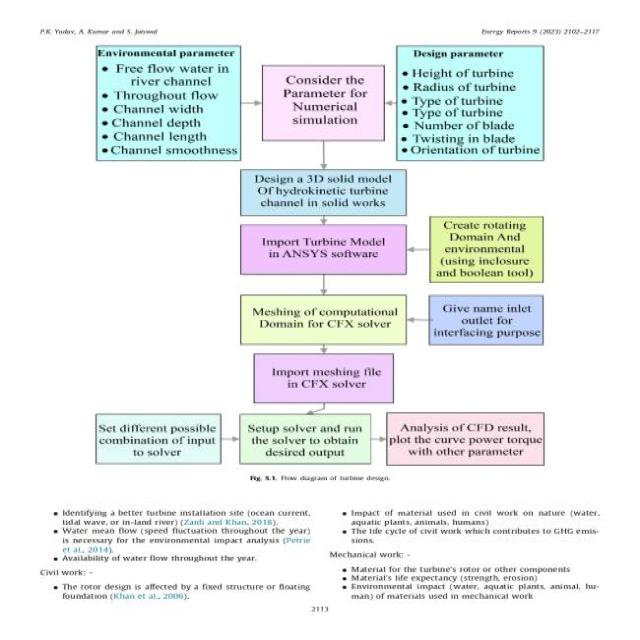Figure Detection - v3 Dataset Version2: (77, 34, 562, 473)
